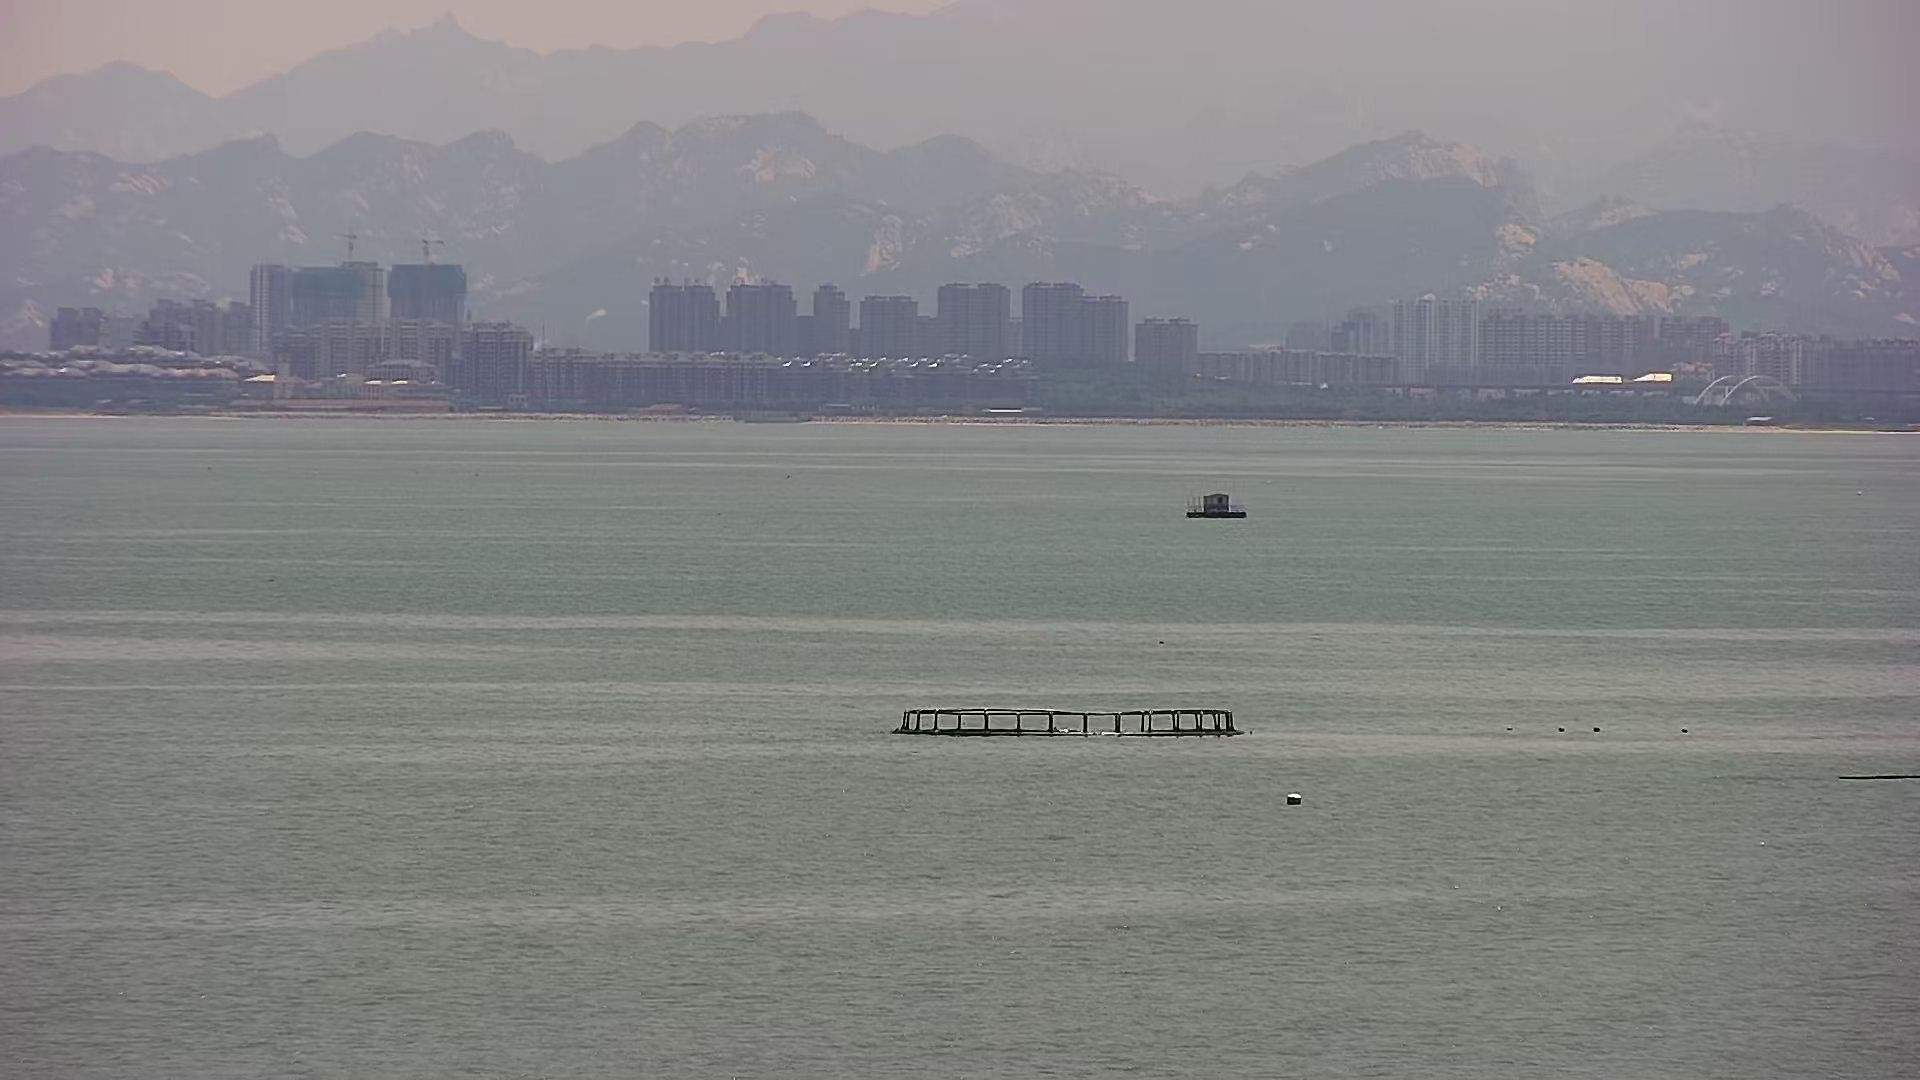ball: (1282, 790, 1307, 808)
platform: (891, 705, 1249, 741), (1184, 491, 1251, 522)
